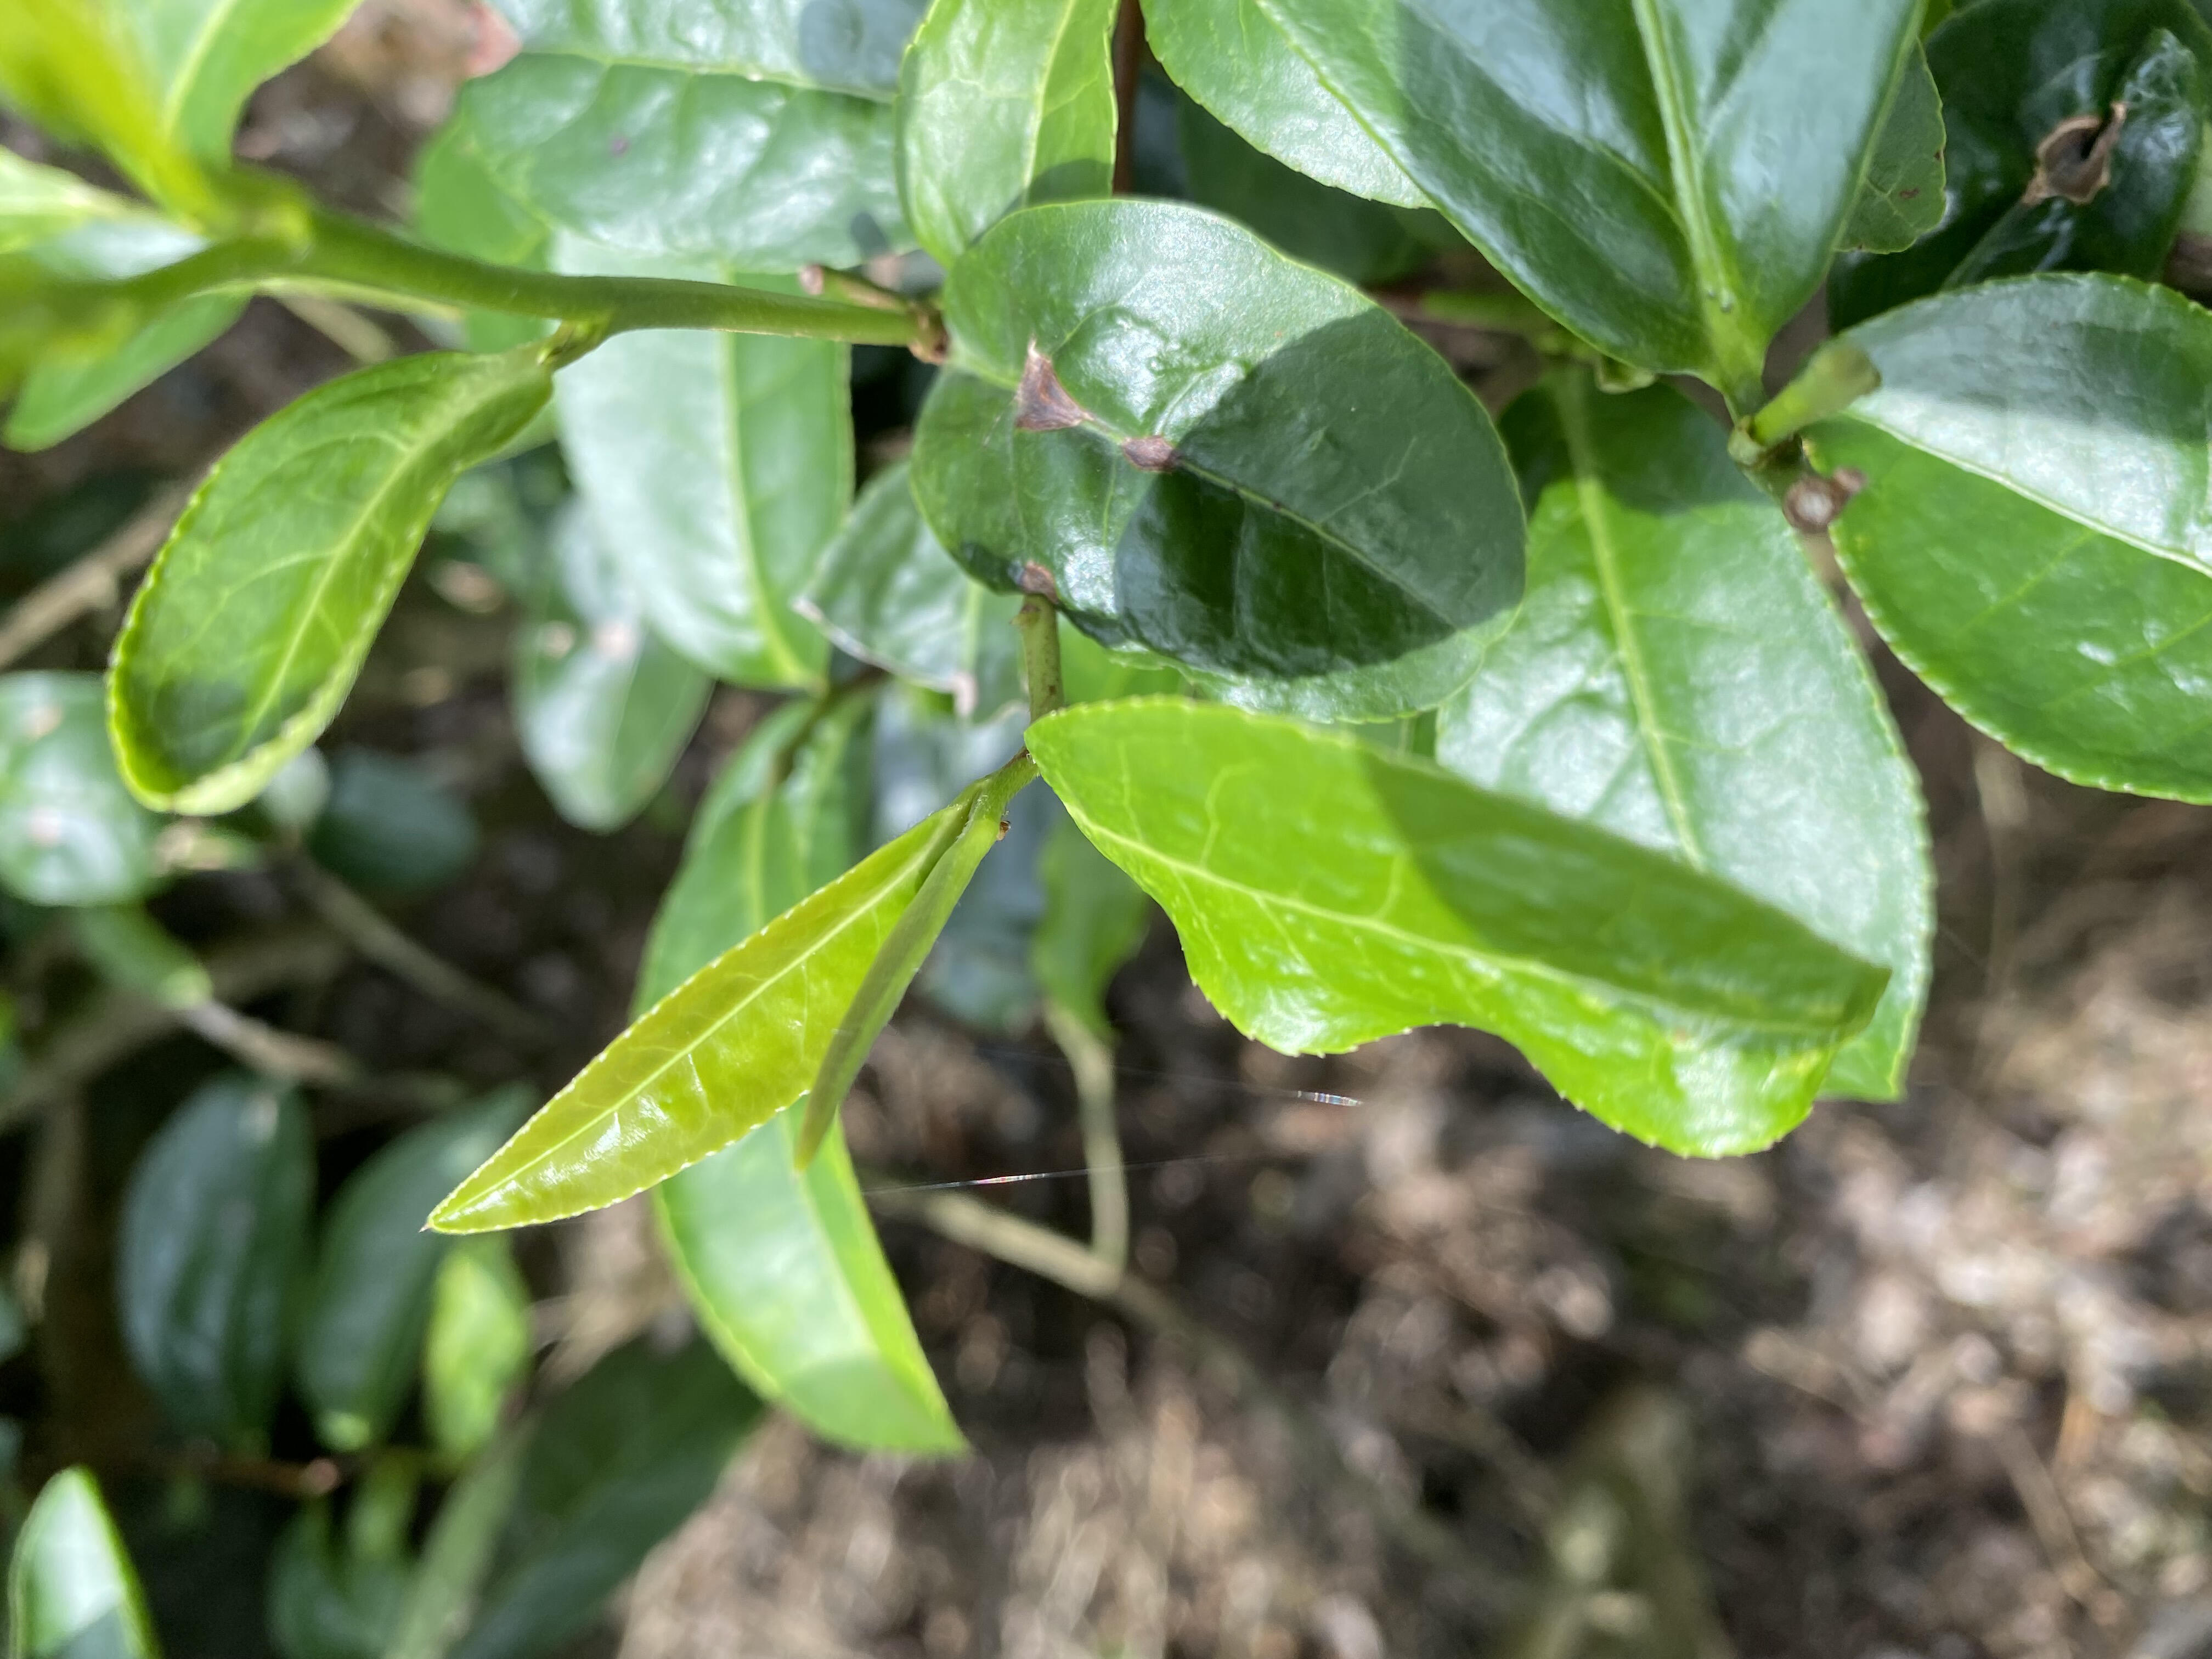healthy: (1026, 695, 1892, 1166), (425, 798, 984, 1234), (101, 350, 556, 816)
tanju_high: (911, 199, 1531, 725)
